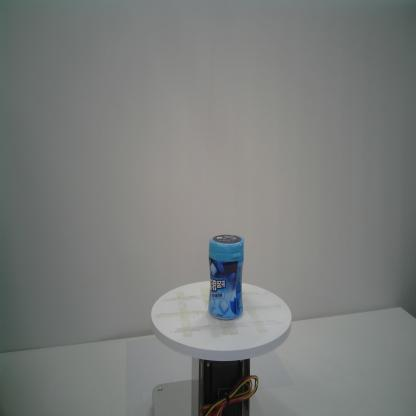Gum: (208, 233, 245, 320)
